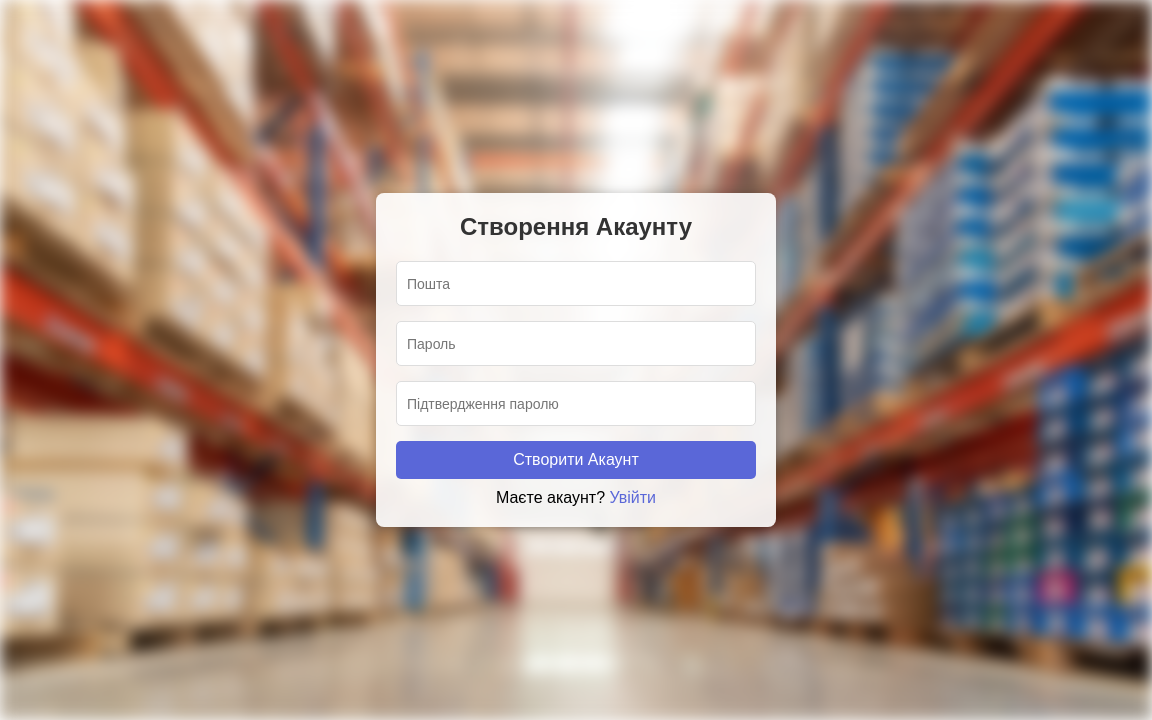
it: Sign Up › should show an error message if passwords do not match
Type "testuser@example.com" into the field with placeholder "Пошта" at point(576, 284), box [396,261,756,306]
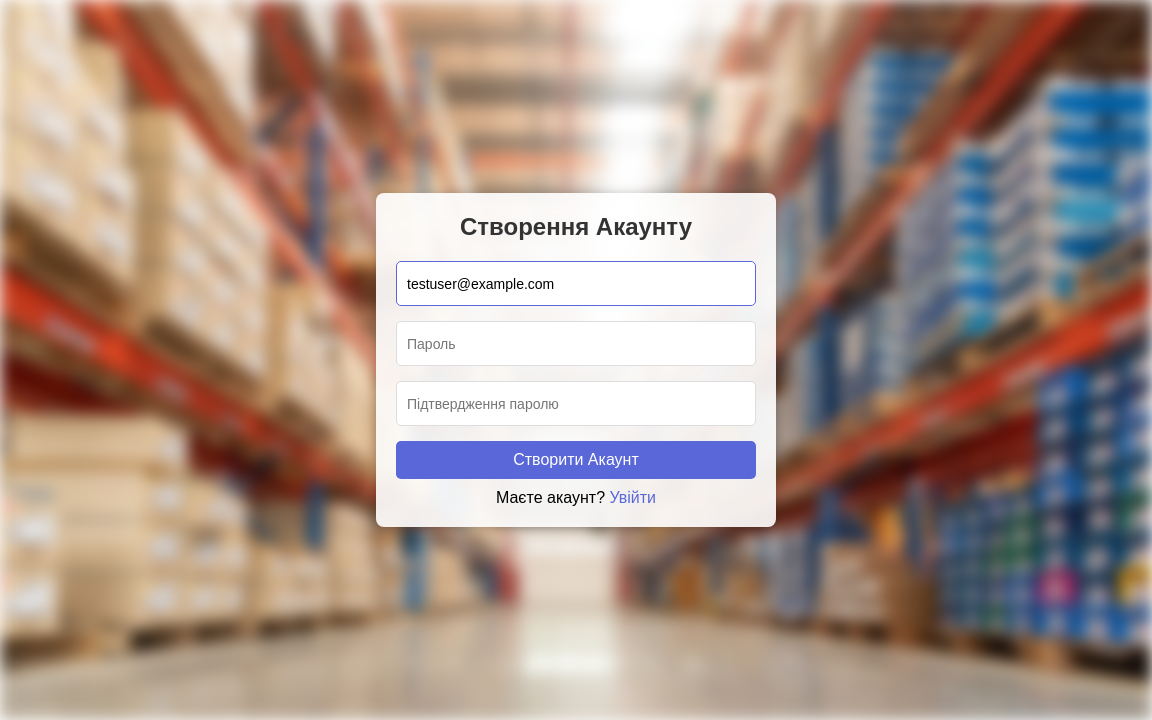
Type "TestPassword123" into the password field with placeholder "Пароль" at point(576, 344), box [396,321,756,366]
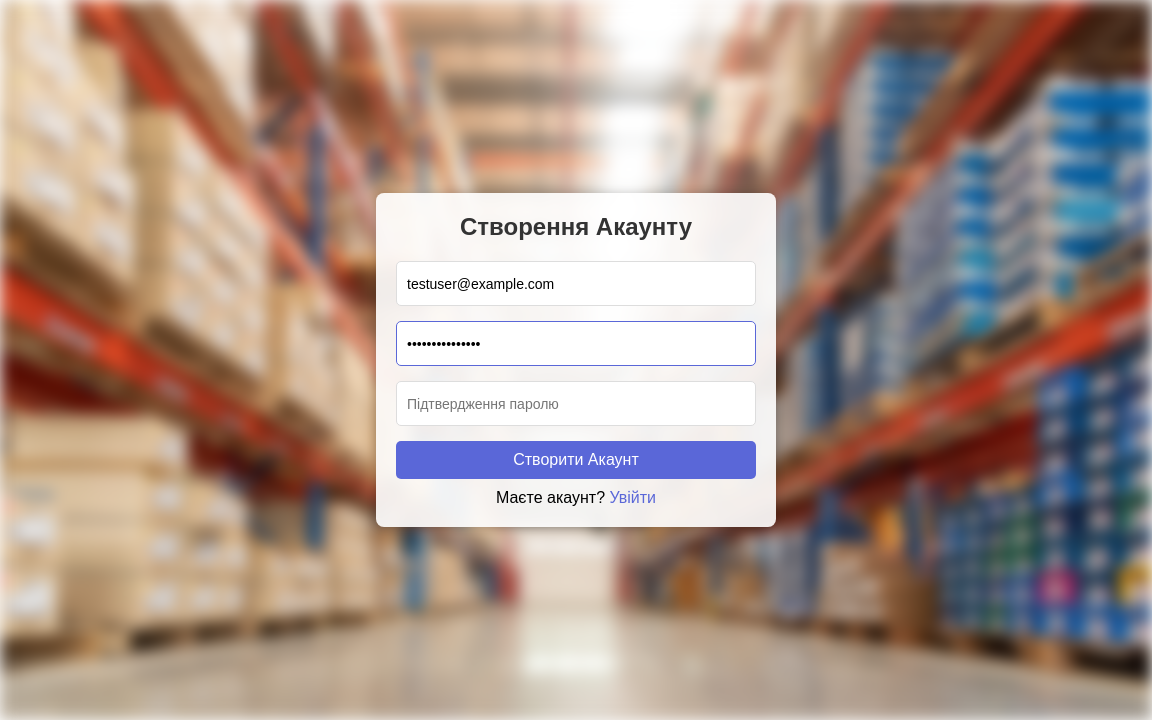
Type "DifferentPassword456" into the password field with placeholder "Підтвердження паролю" at point(576, 404), box [396,381,756,426]
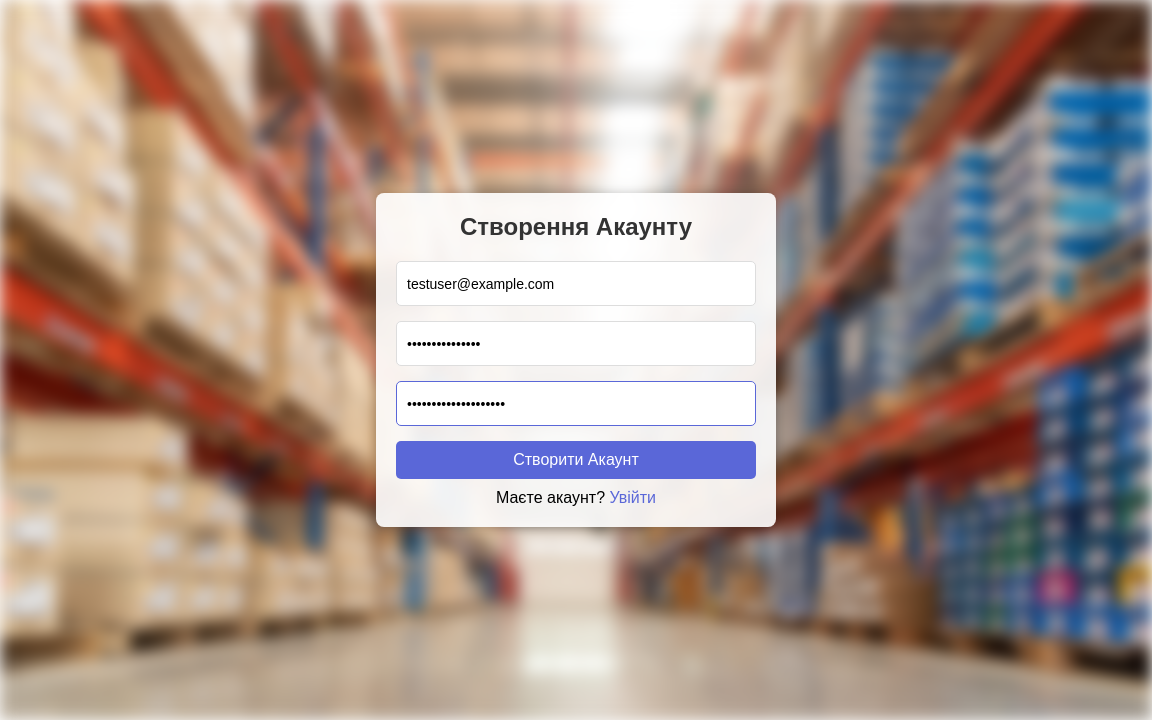
Click the submit button at point(576, 460), box [396,441,756,479]
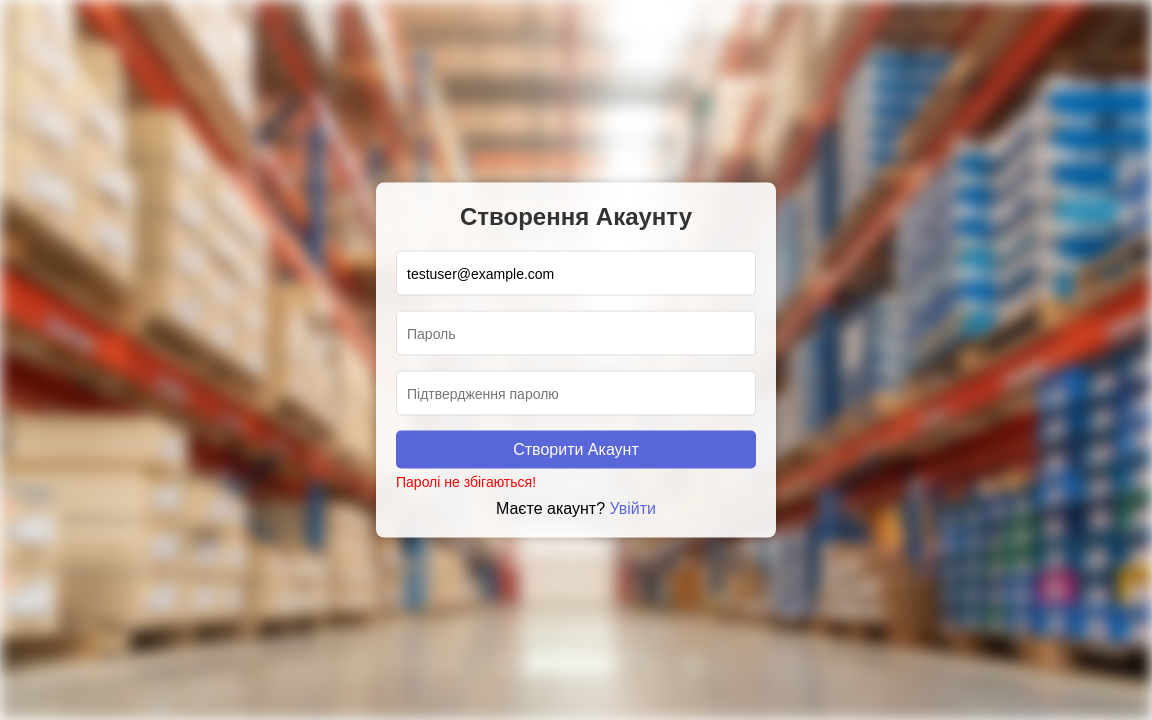
Now the text "Паролі не збігаються!" is shown, box [396,474,536,490]
